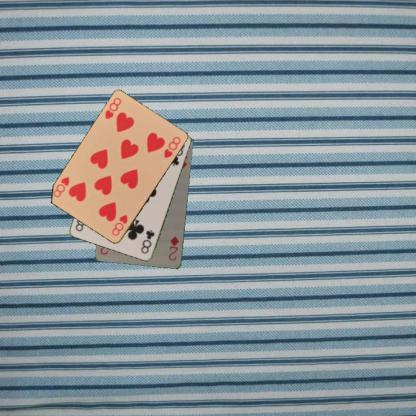2d: (166, 234, 180, 262)
8c: (138, 228, 156, 255)
8h: (109, 212, 129, 238), (102, 95, 122, 121)
